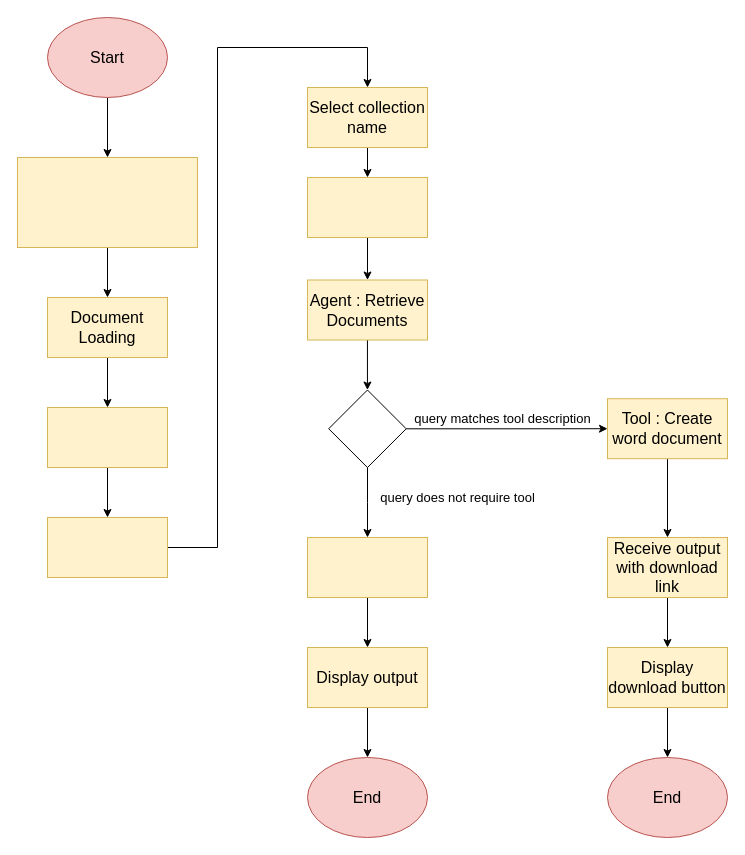
Image size: 745x855. Some labels were removed from this diagram. The shapes that lost their labels are listed below. From the top down, each one's centre as x and y in pixels, then its label:
the point at 107,202: Upload PDF Document & Input Collection Name
the point at 367,207: Enter query
the point at 107,437: Splitting and Chunking
the point at 107,547: Save document into Chroma Vector Store
the point at 367,567: Receive output
